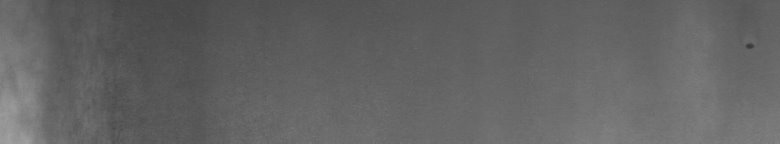fi: (744, 36, 756, 56)
